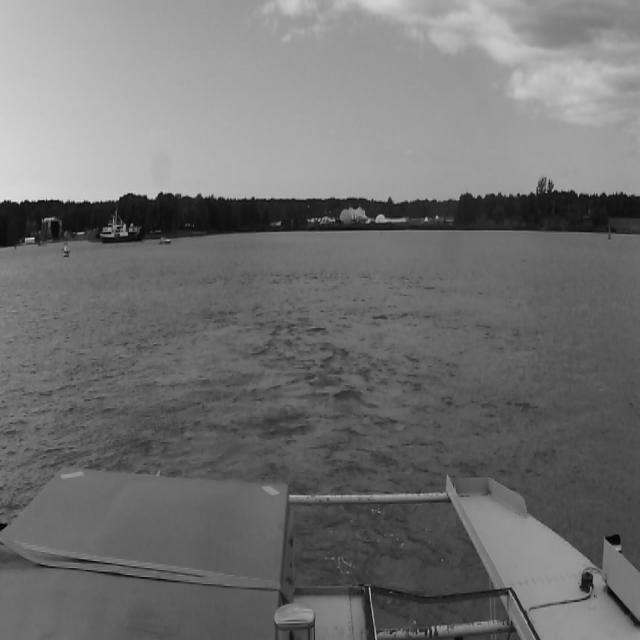buoy: (609, 224, 611, 239)
ship: (100, 210, 142, 243), (63, 245, 70, 256), (160, 237, 170, 244)
